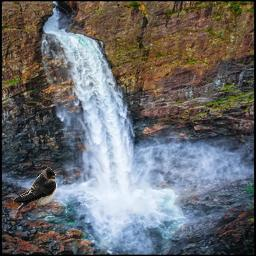Swallow: (13, 168, 57, 213)
